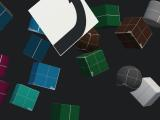Left: (28, 0, 99, 56)
